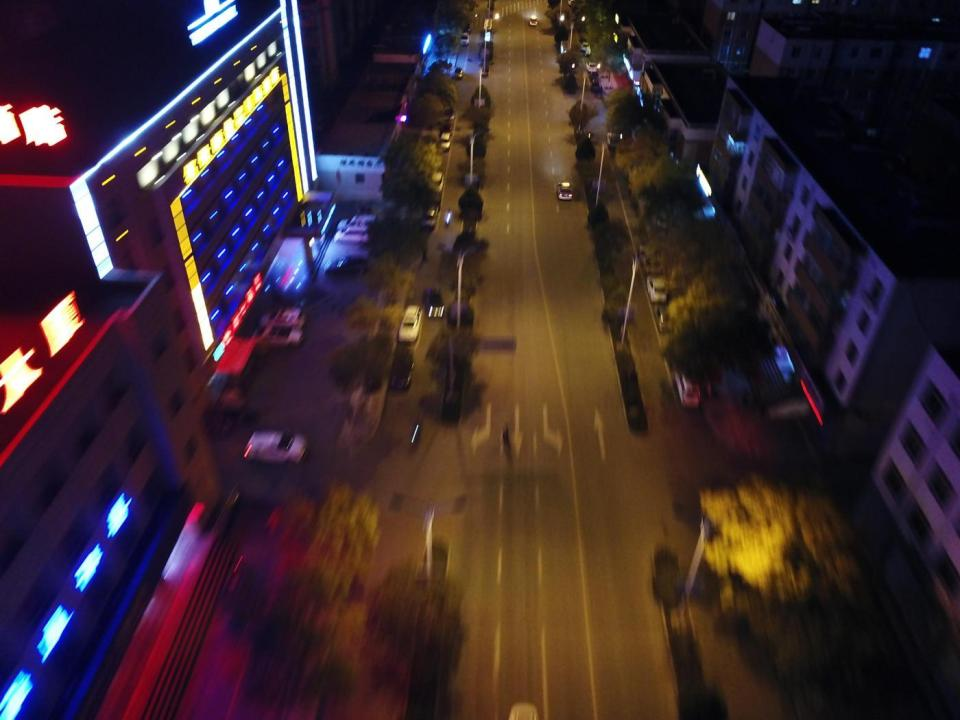car: (244, 431, 309, 470), (211, 388, 244, 430), (257, 306, 305, 328), (252, 327, 302, 348), (390, 347, 414, 390), (396, 305, 422, 342), (322, 256, 370, 274), (676, 372, 700, 408), (642, 244, 664, 274), (423, 287, 444, 317), (334, 227, 370, 243), (656, 307, 676, 333), (648, 276, 667, 302), (428, 172, 444, 192), (420, 208, 436, 226), (558, 182, 572, 200), (608, 131, 619, 147), (440, 120, 452, 134), (441, 106, 455, 118), (452, 66, 464, 79), (592, 78, 601, 91), (586, 61, 597, 71), (461, 32, 469, 45), (528, 17, 537, 26), (581, 42, 590, 51), (590, 72, 598, 80), (463, 23, 470, 32), (570, 0, 577, 4)
van: (337, 215, 378, 232), (314, 114, 326, 131), (439, 132, 450, 150)
